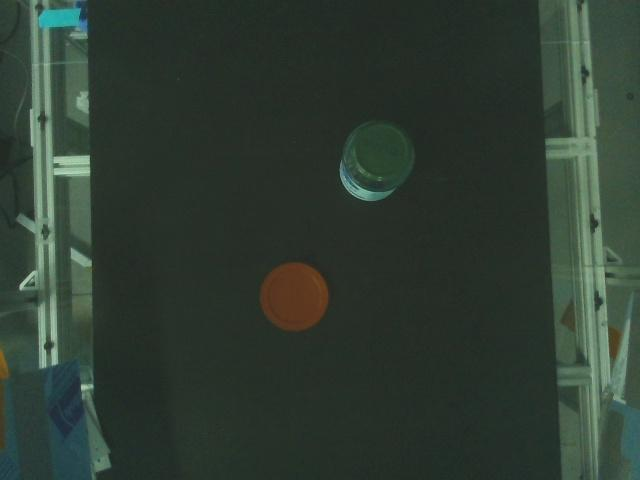glass: (338, 119, 416, 203)
plastic: (260, 262, 330, 331)
